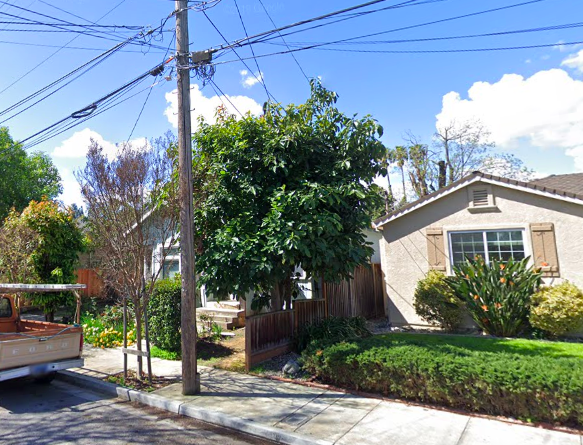tree: (191, 79, 391, 315)
